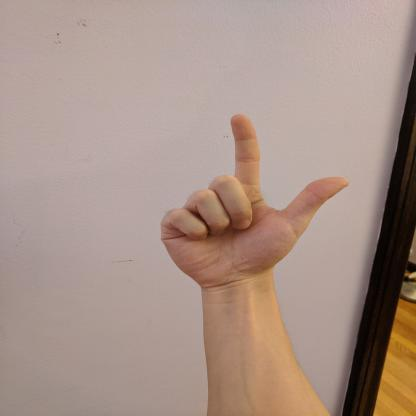L: (157, 110, 354, 292)
